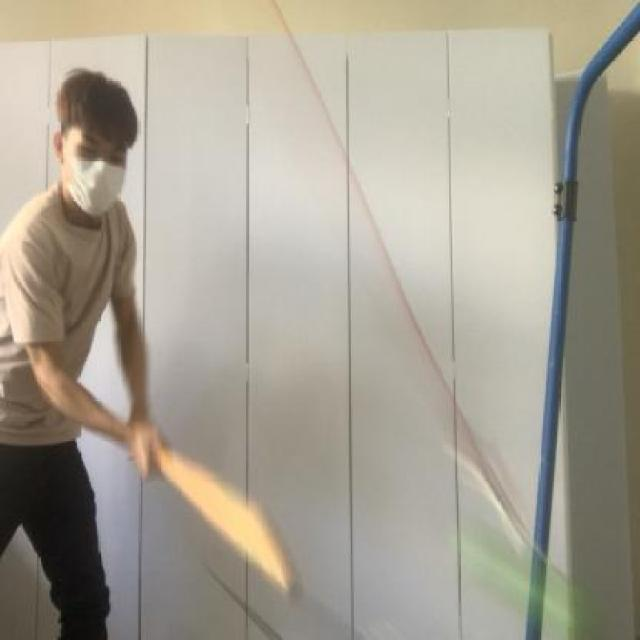baseball: (458, 506, 608, 640)
